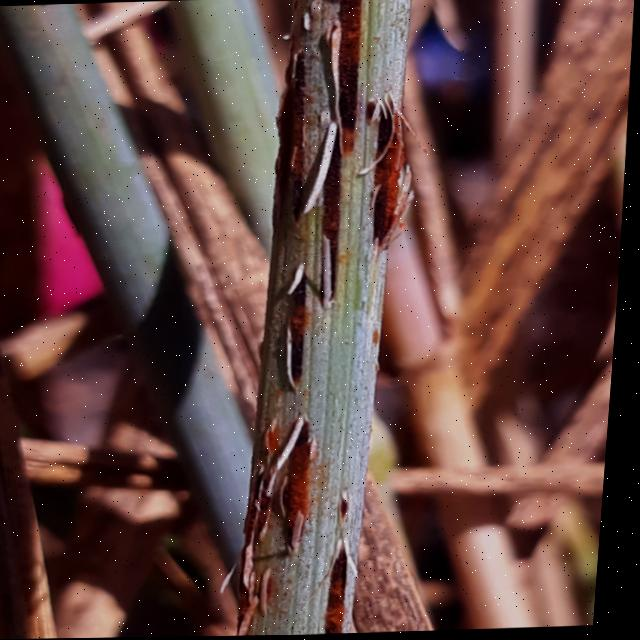black_stem_rust: (191, 0, 640, 637), (0, 152, 159, 640)
